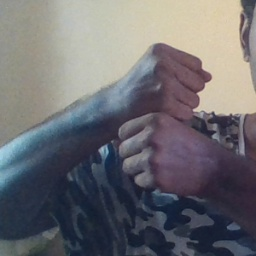G: (116, 41, 219, 190)
